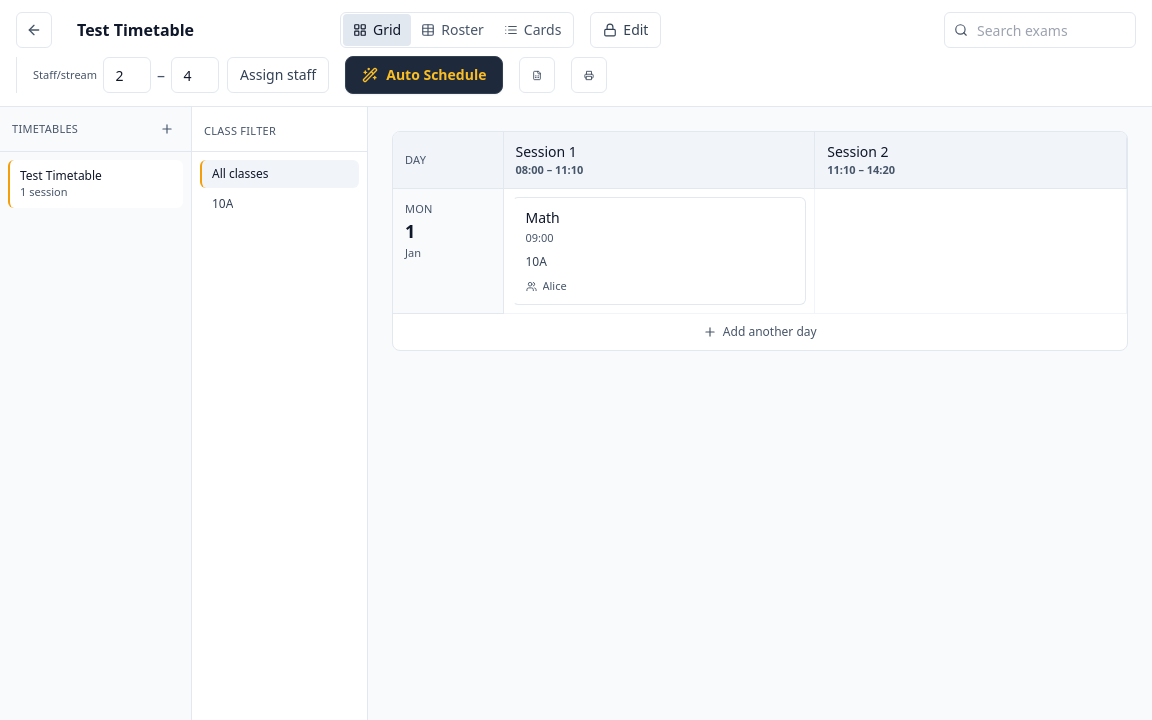
Test: ExamsView › should open the invigilator assignment modal
The width and height of the screenshot is (1152, 720).
Click the button "Assign staff": (278, 75) [227,57,329,93]
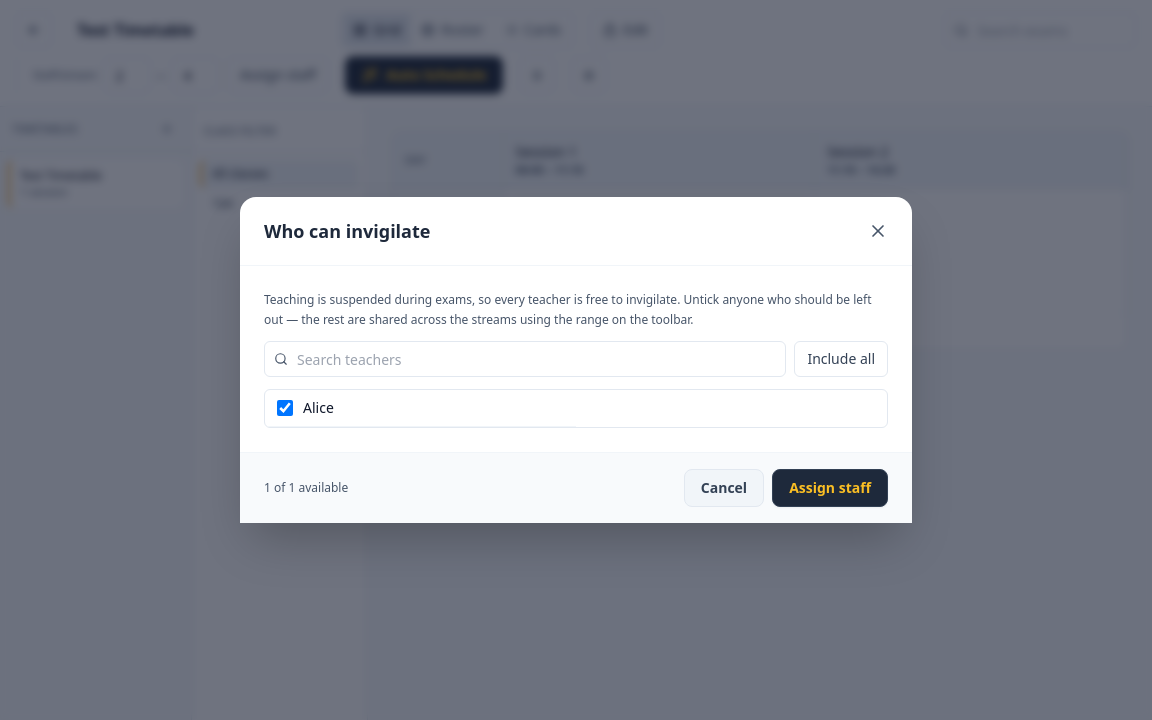
Result: the heading "Who can invigilate" is shown at [264,217,430,245]
